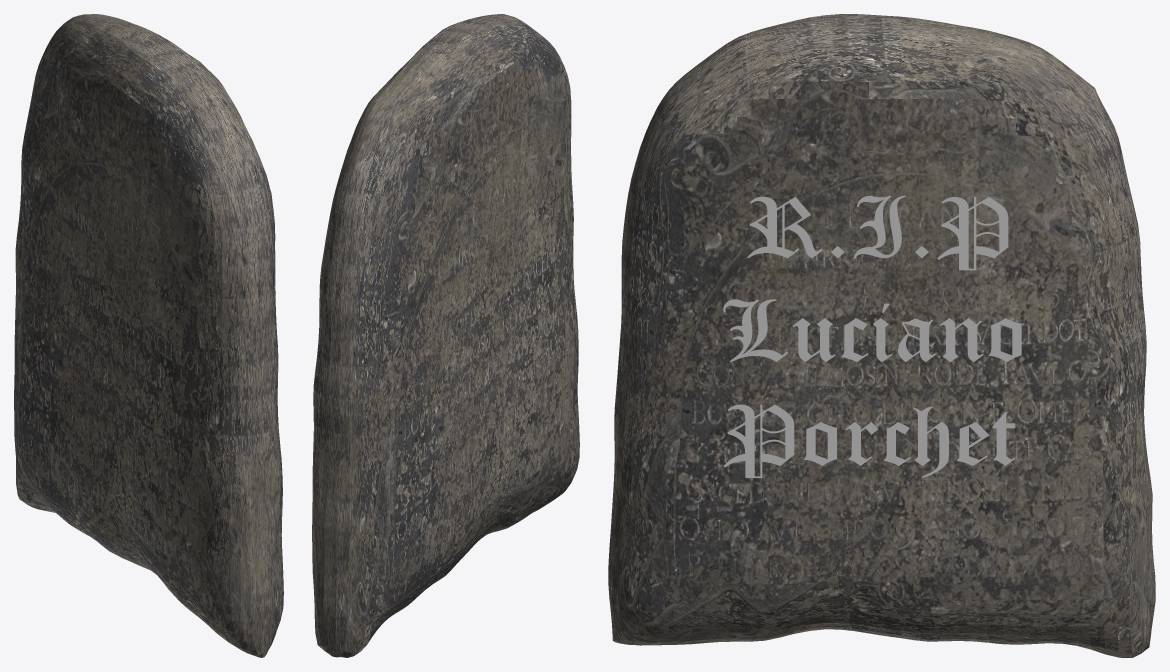
Rendered from tomb_stone_4.fbx.
3 views of the same model, side by side, from view 1: azimuth 30°, elevation 25°; view 2: azimuth 150°, elevation 25°; view 3: azimuth 270°, elevation 25° (orthographic). The views are drawn at different scales.
Parts seen in each view (by area): view 1: Cube; view 2: Cube; view 3: Cube, Text.
Part boxes in pixels (x1,y1,x2,y2): Cube: (14, 14, 283, 657); Cube: (312, 14, 579, 657); Cube: (608, 14, 1155, 657); Text: (723, 195, 1021, 477).
Size of the model in its own units: 29.93 by 182 by 143.
2 materials, 1 textured.
